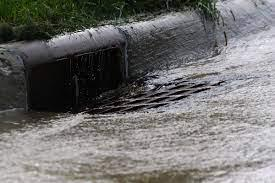drainage_overflow: (50, 42, 227, 154)
